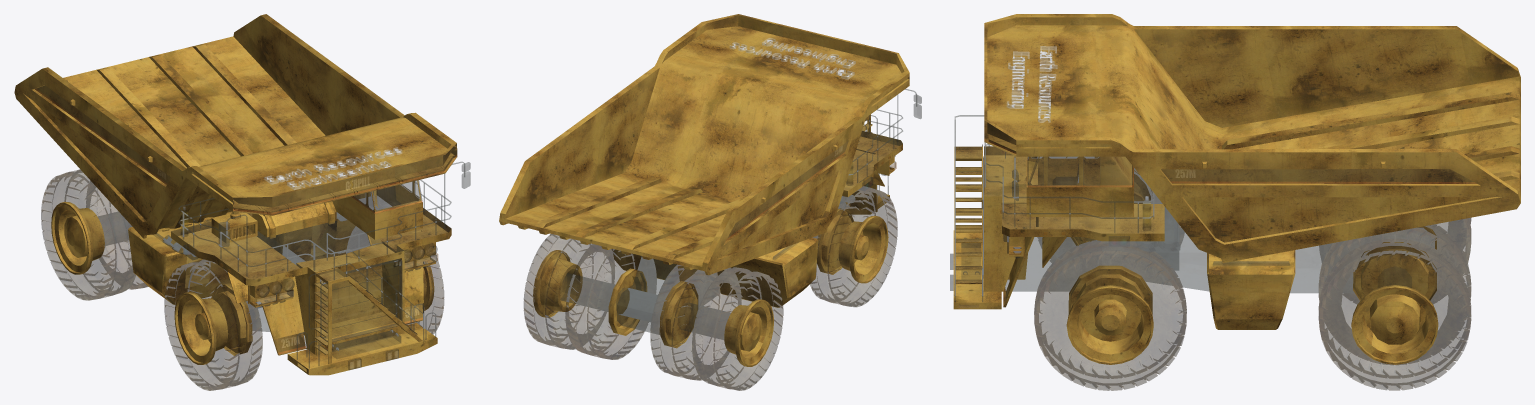
File: haul_truck.glb
3 views of the same model, side by side, from view 1: azimuth 30°, elevation 25°; view 2: azimuth 150°, elevation 25°; view 3: azimuth 270°, elevation 25° (orthographic). The views are drawn at different scales.
Visible parts, largest first — view 1: haul_truck; view 2: haul_truck; view 3: haul_truck.
Boxes of the visible parts, x1,y1,x2,y2 form: haul_truck: (14, 14, 470, 390); haul_truck: (499, 14, 921, 390); haul_truck: (950, 14, 1520, 390).
Size of the model in its own units: 2.35 by 2.01 by 4.
10 materials, 9 textured.
